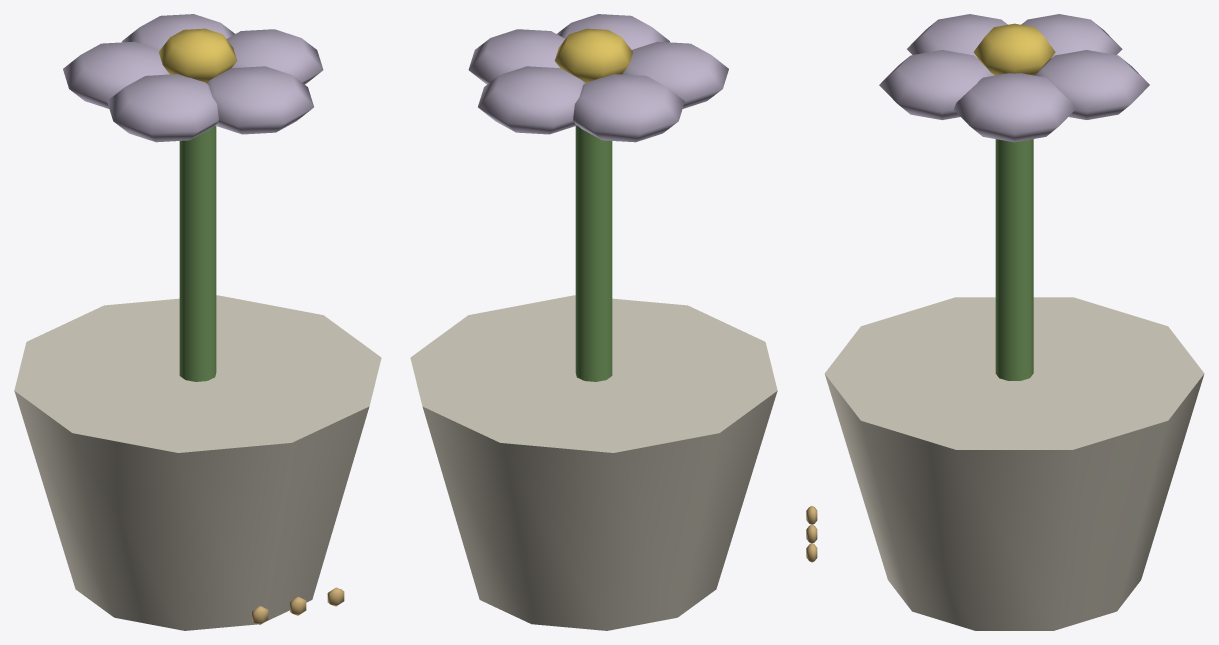
3 renders of one model, left to right at view 1: azimuth 30°, elevation 25°; view 2: azimuth 150°, elevation 25°; view 3: azimuth 270°, elevation 25°, orthographic.
Visible parts, largest first — view 1: st03; view 2: st03; view 3: st03.
Boxes of the visible parts, bbox=[...] form: st03: bbox=[14, 14, 381, 630]; st03: bbox=[410, 14, 777, 630]; st03: bbox=[806, 14, 1204, 630].
Size of the model in its own units: 0.2853 by 0.48 by 0.3143.
